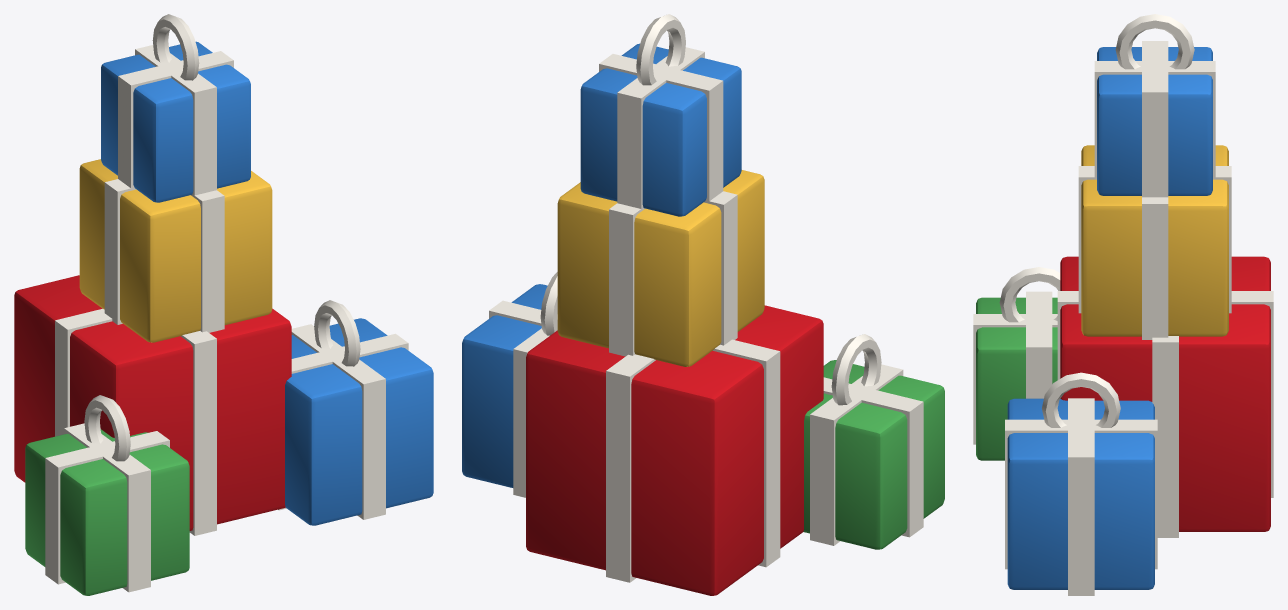
File: MidNewYear.fbx
3 renders of one model, left to right at view 1: azimuth 30°, elevation 25°; view 2: azimuth 150°, elevation 25°; view 3: azimuth 270°, elevation 25°, orthographic. The views are drawn at different scales.
Parts seen in each view (by area): view 1: MidNewYear; view 2: MidNewYear; view 3: MidNewYear.
Part boxes in pixels (x1,y1,x2,y2): MidNewYear: (14,14,433,595); MidNewYear: (462,14,944,595); MidNewYear: (973,14,1273,595).
Bounding box in the file's own units: 415 × 510 × 285.
